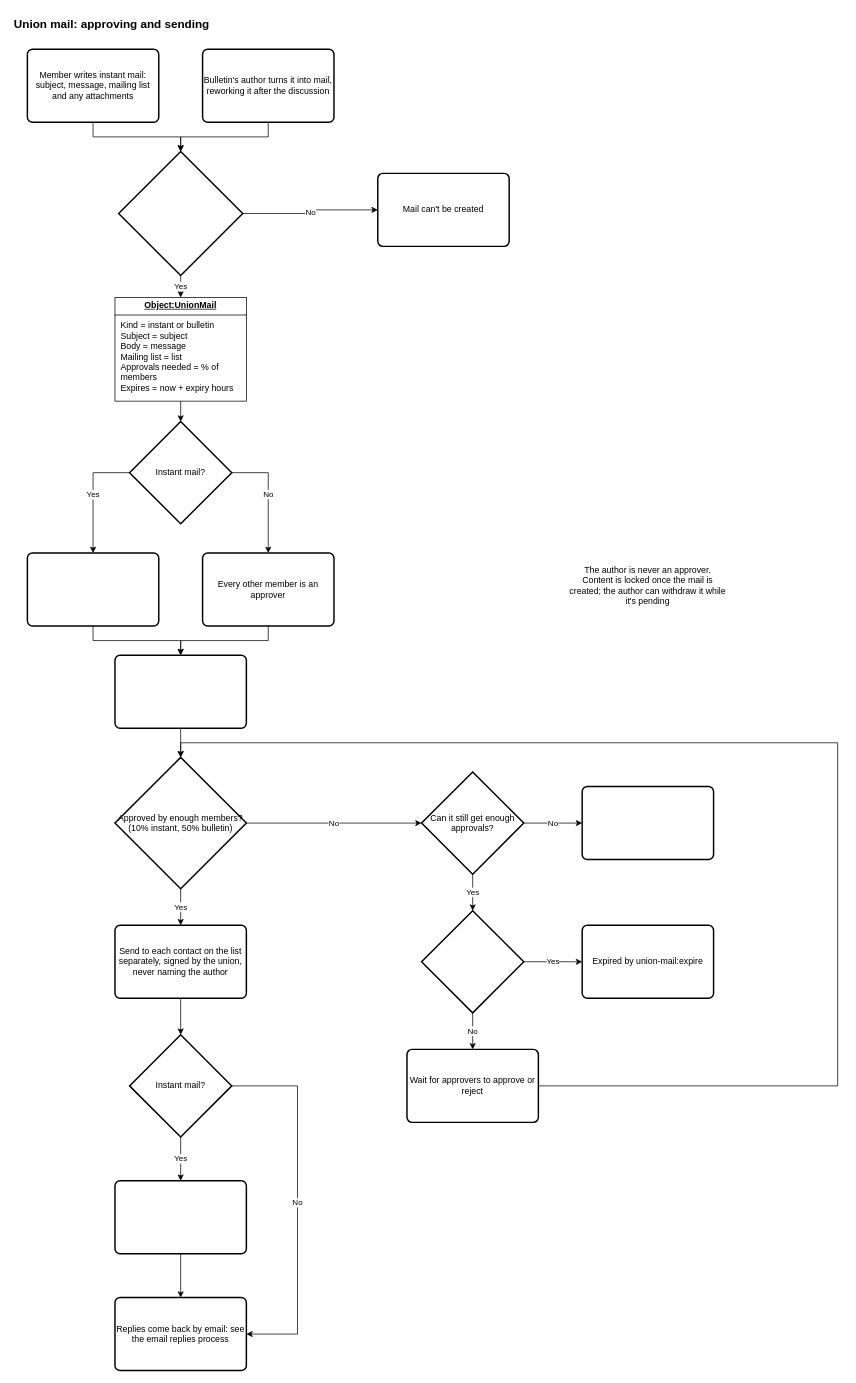
Some shapes in this 856 by 1383 pixel diagram are drawn without their labels. The shapes that lost their labels are listed below. From the top down, each one's centre as x and y in pixels, then its label:
the point at 180,213: Enough other members to give the approvals needed?
the point at 92,589: Draw instant_mail_approver_percent (20%) of members at random as approvers
the point at 180,691: Email each approver a link. The mail's content isn't in the email
the point at 647,822: Rejected
the point at 472,961: Past its expiry time?
the point at 180,1217: Post it as a bulletin by the author, so every member sees what the union said
